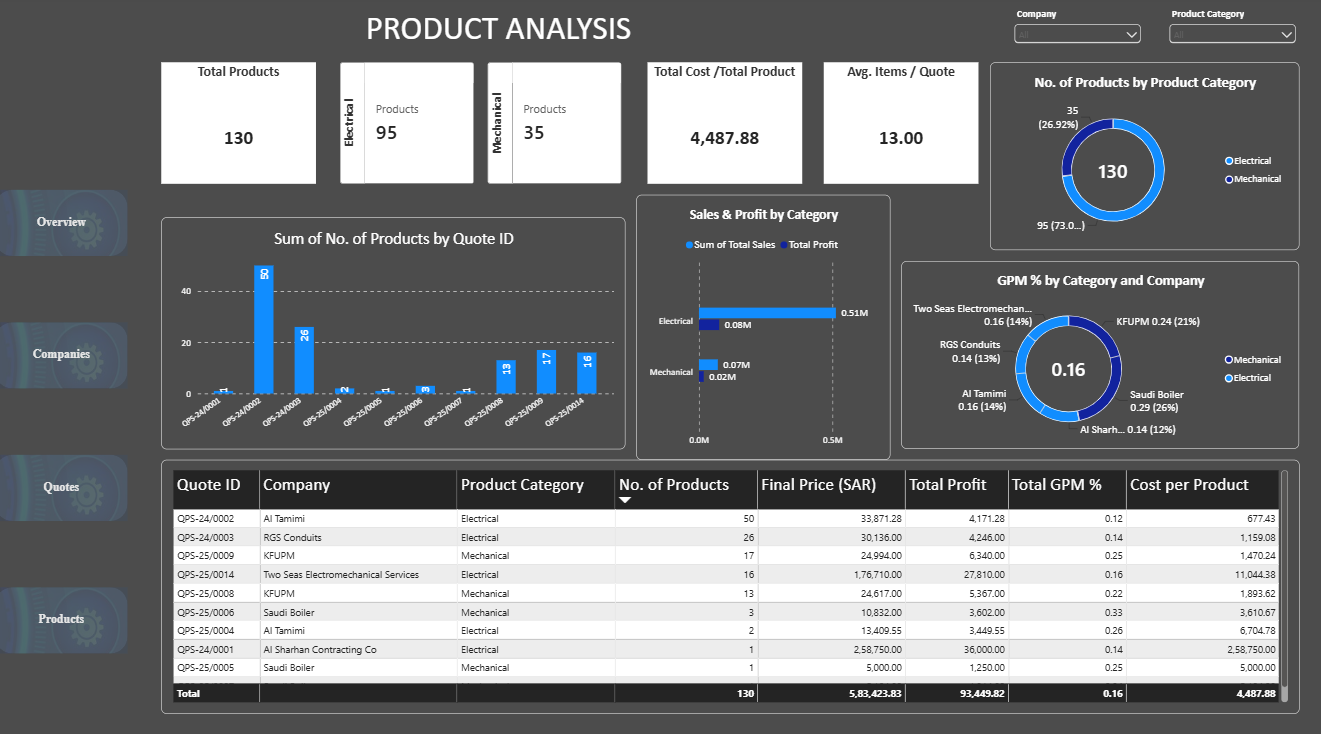

The page's visual inventory and layout, read from the dashboard file:
{"tool":"powerbi","page":{"name":"Products","canvas":[1920,1080],"ordinal":3},"visuals":[{"type":"actionButton","box":[0,280.4,192,96],"z":0},{"type":"actionButton","box":[0,664.4,192,96],"z":1000},{"type":"actionButton","box":[0,472.4,192,96],"z":2000},{"type":"actionButton","box":[0,856.4,192,96],"z":3000},{"type":"textbox","box":[304,16,864,64],"z":3001},{"type":"slicer","fields":{"Values":["SalesData.Company"]},"box":[1472,16,192,64],"z":3002},{"type":"slicer","fields":{"Values":["SalesData.Product Category"]},"box":[1696,16,192,64],"z":3003},{"type":"cardVisual","fields":{"Data":["Sum(SalesData.No. of Products)"],"Rows":["SalesData.Product Category"]},"box":[480,96,448,176],"z":3004},{"type":"card","title":"Total Products","fields":{"Values":["Sum(SalesData.No. of Products)"]},"box":[240,96,224,176],"z":3005},{"type":"tableEx","fields":{"Values":["SalesData.Quote ID","SalesData.Company","SalesData.Product Category","Sum(SalesData.No. of Products)","Sum(SalesData.Final Price (SAR))","SalesData.Total Profit","SalesData.Total GPM %","SalesData.Sum of Total Sales divided by Sum of No. of Products"]},"box":[240,672,1648,368],"z":3006},{"type":"card","title":"Total Cost /Total Product","fields":{"Values":["SalesData.Cost per Product"]},"box":[944,96,224,176],"z":3007},{"type":"card","title":"Avg. Items / Quote","fields":{"Values":["SalesData.Sum of No. of Products average per Quote ID"]},"box":[1200,96,224,176],"z":3008},{"type":"donutChart","title":"No. of Products by Product Category","fields":{"Category":["SalesData.Product Category"],"Y":["Sum(SalesData.No. of Products)"]},"box":[1440,96,448,272],"z":3009},{"type":"donutChart","title":"GPM % by Category and Company","fields":{"Category":["SalesData.Product Category"],"Series":["SalesData.Company"],"Y":["SalesData.Total GPM %"]},"box":[1312,384,576,272],"z":3010},{"type":"clusteredColumnChart","fields":{"Category":["SalesData.Quote ID"],"Y":["Sum(SalesData.No. of Products)"]},"box":[240,304,672,336],"z":3011},{"type":"clusteredBarChart","title":"Sales & Profit by Category","fields":{"Category":["SalesData.Product Category"],"Y":["SalesData.Sum of Total Sales","SalesData.Total Profit"]},"box":[928,288,368,384],"z":3012}]}

Visuals, with their boxes in screenshot pixels (x1, y1, x2, y2), scaled from the page's 1920x1080 canvas onto the 1321x734 screenshot:
actionButton: 0, 191, 132, 256
actionButton: 0, 452, 132, 517
actionButton: 0, 321, 132, 386
actionButton: 0, 582, 132, 647
textbox: 209, 11, 804, 54
slicer - SalesData.Company: 1013, 11, 1145, 54
slicer - SalesData.Product Category: 1167, 11, 1299, 54
cardVisual - Sum(SalesData.No. of Products) x SalesData.Product Category: 330, 65, 638, 185
"Total Products" card: 165, 65, 319, 185
tableEx - SalesData.Quote ID x SalesData.Company: 165, 457, 1299, 707
"Total Cost /Total Product" card: 649, 65, 804, 185
"Avg. Items / Quote" card: 826, 65, 980, 185
"No. of Products by Product Category" donutChart: 991, 65, 1299, 250
"GPM % by Category and Company" donutChart: 903, 261, 1299, 446
clusteredColumnChart - SalesData.Quote ID x Sum(SalesData.No. of Products): 165, 207, 627, 435
"Sales & Profit by Category" clusteredBarChart: 638, 196, 892, 457
